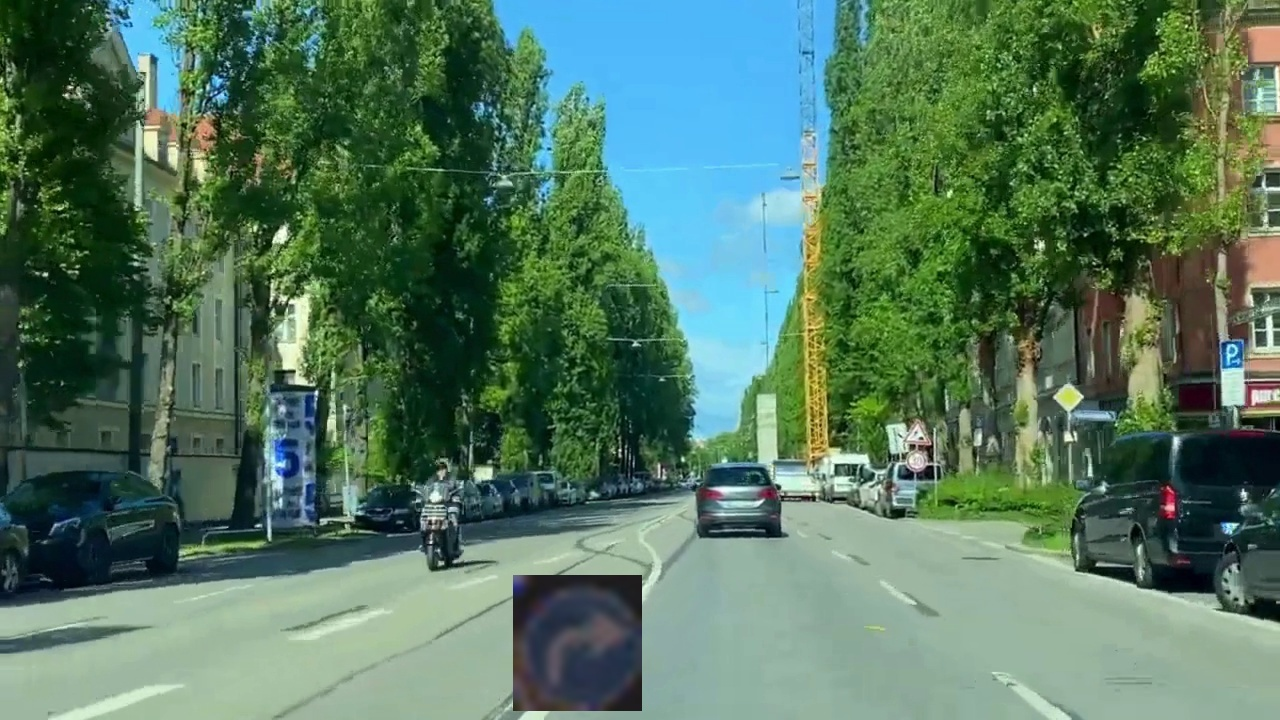Turn right: (513, 575, 642, 711)
